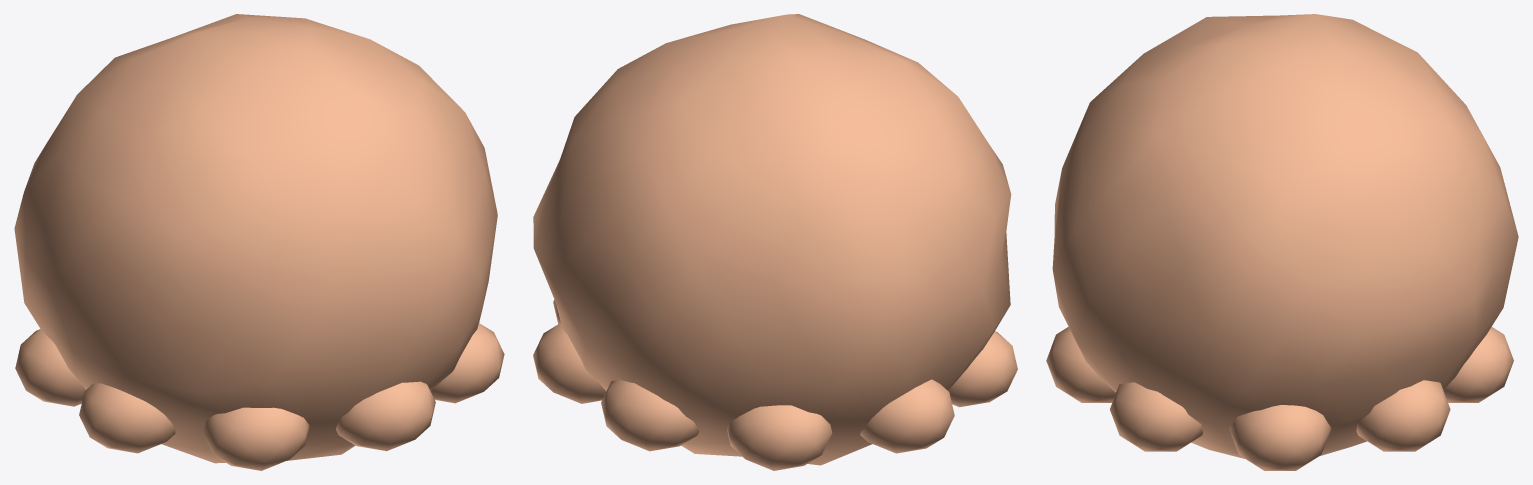
Rendered from Peach_scoop.fbx.
3 views of the same model, side by side, from view 1: azimuth 30°, elevation 25°; view 2: azimuth 150°, elevation 25°; view 3: azimuth 270°, elevation 25° (orthographic).
Visible parts, largest first — view 1: Toon_Peach_scoop Peach scoop.001, Toon_Peach_scoop Ruffled scoop edge.015, Toon_Peach_scoop Ruffled scoop edge.016, Toon_Peach_scoop Ruffled scoop edge.014, Toon_Peach_scoop Ruffled scoop edge.013, Toon_Peach_scoop Ruffled scoop edge.017; view 2: Toon_Peach_scoop Peach scoop.001, Toon_Peach_scoop Ruffled scoop edge.012, Toon_Peach_scoop Ruffled scoop edge.011, Toon_Peach_scoop Ruffled scoop edge.013, Toon_Peach_scoop Ruffled scoop edge.010, Toon_Peach_scoop Ruffled scoop edge.014; view 3: Toon_Peach_scoop Peach scoop.001, Toon_Peach_scoop Ruffled scoop edge.009, Toon_Peach_scoop Ruffled scoop edge.010, Toon_Peach_scoop Ruffled scoop edge.017, Toon_Peach_scoop Ruffled scoop edge.011, Toon_Peach_scoop Ruffled scoop edge.016.
Part boxes in pixels (x1,y1,x2,y2): Toon_Peach_scoop Peach scoop.001: (14,14,497,463); Toon_Peach_scoop Ruffled scoop edge.015: (202,407,309,470); Toon_Peach_scoop Ruffled scoop edge.016: (336,381,435,451); Toon_Peach_scoop Ruffled scoop edge.014: (79,382,175,453); Toon_Peach_scoop Ruffled scoop edge.013: (15,329,85,406); Toon_Peach_scoop Ruffled scoop edge.017: (431,323,504,403); Toon_Peach_scoop Peach scoop.001: (533,14,1011,465); Toon_Peach_scoop Ruffled scoop edge.012: (727,405,832,470); Toon_Peach_scoop Ruffled scoop edge.011: (601,379,699,451); Toon_Peach_scoop Ruffled scoop edge.013: (860,379,954,453); Toon_Peach_scoop Ruffled scoop edge.010: (533,323,606,403); Toon_Peach_scoop Ruffled scoop edge.014: (948,331,1017,407); Toon_Peach_scoop Peach scoop.001: (1052,14,1518,458); Toon_Peach_scoop Ruffled scoop edge.009: (1229,405,1330,470); Toon_Peach_scoop Ruffled scoop edge.010: (1356,380,1450,451); Toon_Peach_scoop Ruffled scoop edge.017: (1110,382,1202,451); Toon_Peach_scoop Ruffled scoop edge.011: (1443,327,1513,402); Toon_Peach_scoop Ruffled scoop edge.016: (1046,327,1115,402).
Bounding box in the file's own units: 10.56 × 9.6 × 10.18.
